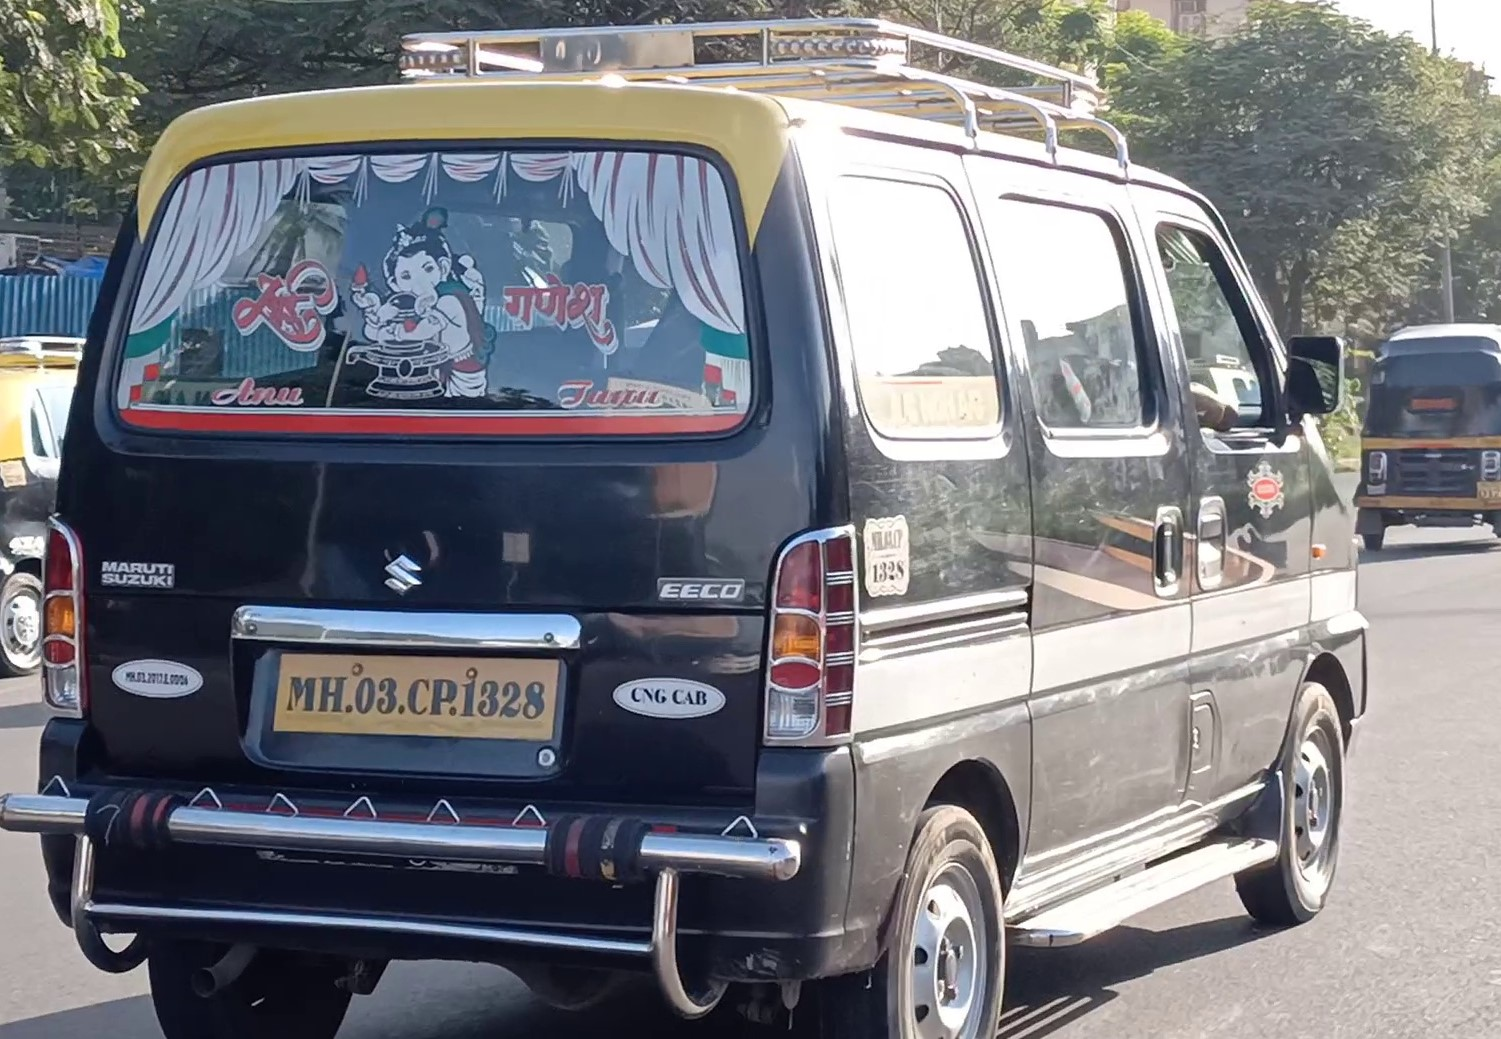MH03CP1328: (272, 655, 556, 741)
